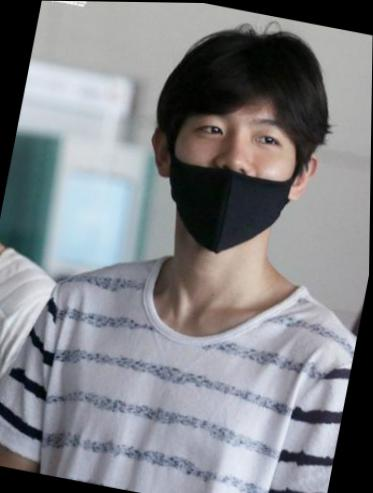WRONG: (157, 100, 305, 257)
